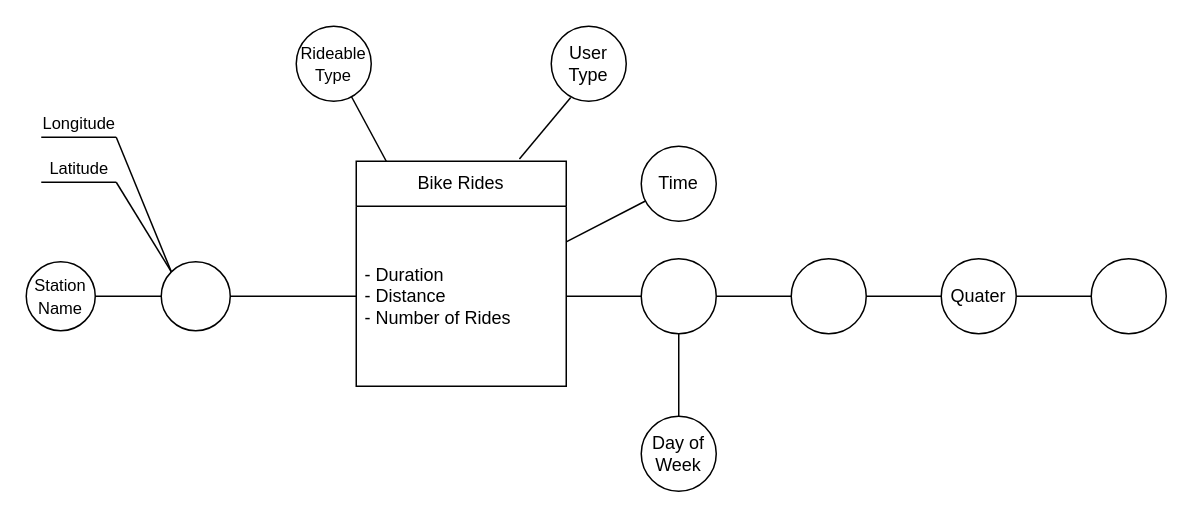
Some shapes in this 1193 by 518 pixel diagram are drawn without their labels. Each missing label, with the centre of its shape:
"Date" belongs at [678,295].
"Month" belongs at [828,295].
"Station ID" belongs at [195,295].
"Year" belongs at [1128,295].
